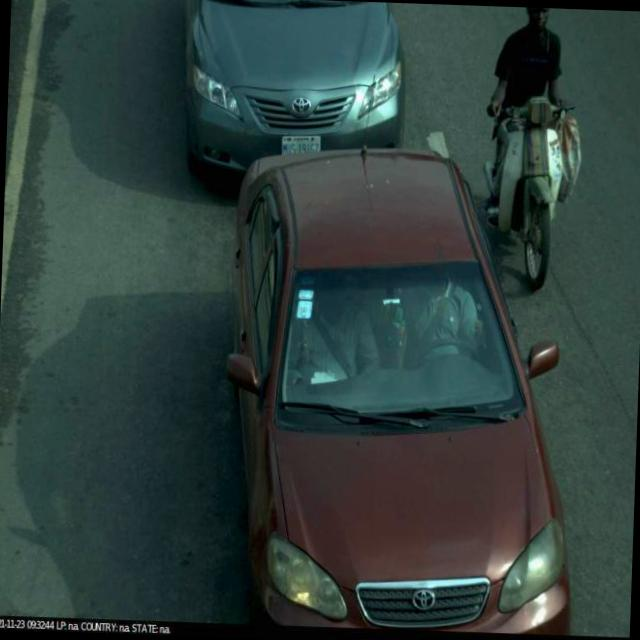person_with_seatbelt: (386, 264, 491, 392)
